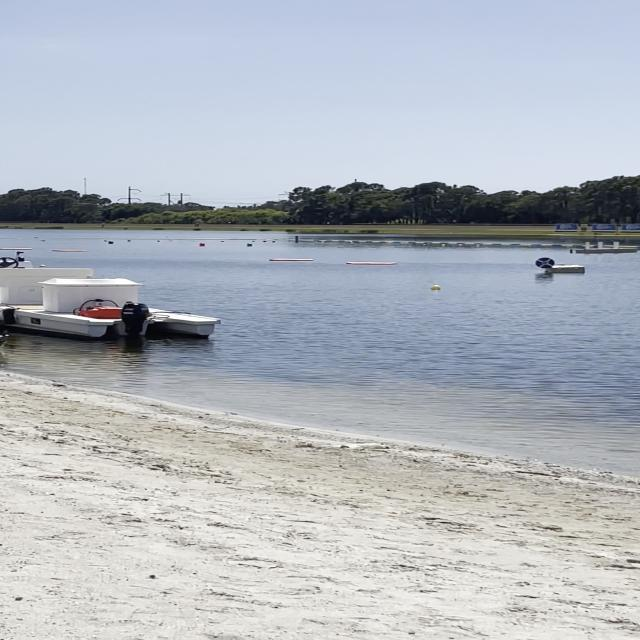buoy: (431, 284, 441, 290), (247, 242, 253, 246), (199, 243, 205, 246)
